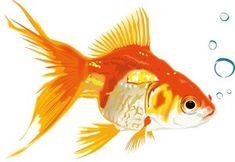goldfish: (59, 38, 218, 144)
